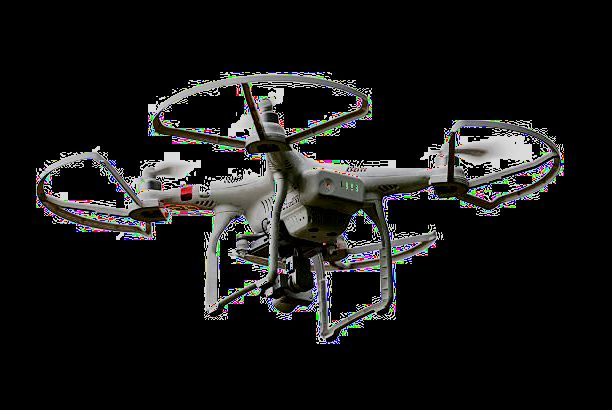Drone: (31, 60, 568, 356)
